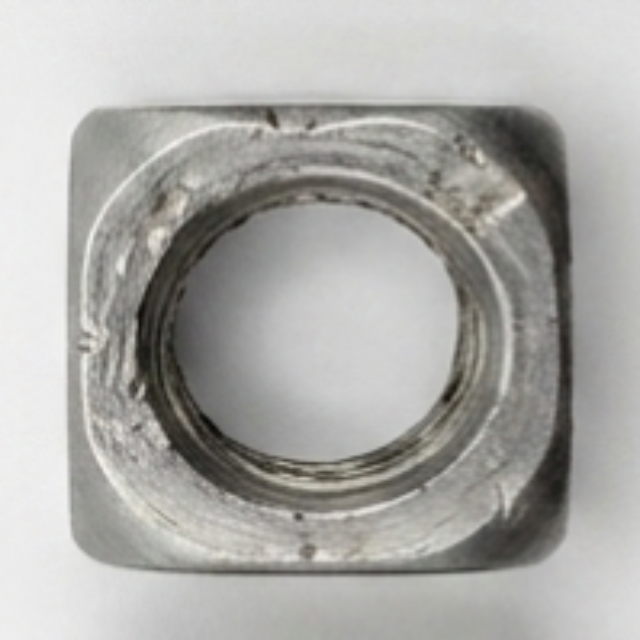defect: (93, 191, 176, 442), (419, 130, 528, 248), (224, 90, 380, 142), (478, 463, 540, 534)
